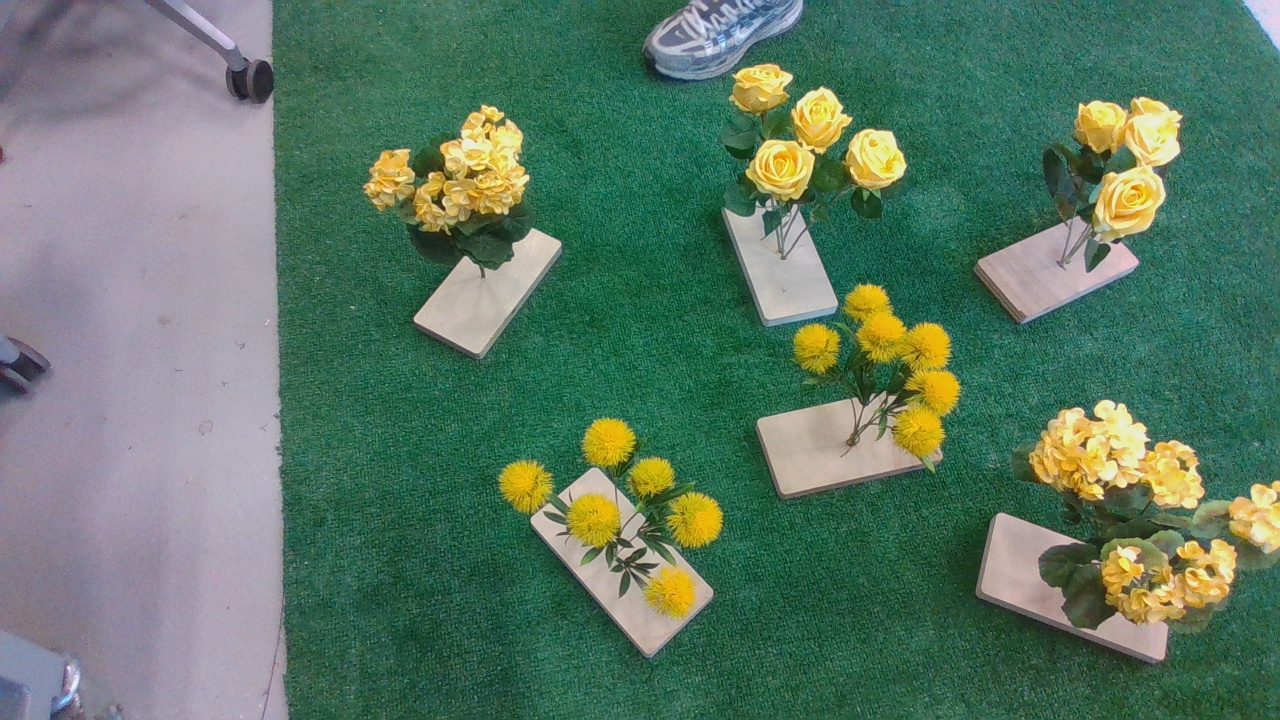dandelion: (497, 414, 747, 625), (794, 281, 972, 488)
geranium: (1000, 392, 1280, 647), (365, 89, 547, 280)
rose: (720, 62, 923, 236), (1027, 86, 1192, 282)
